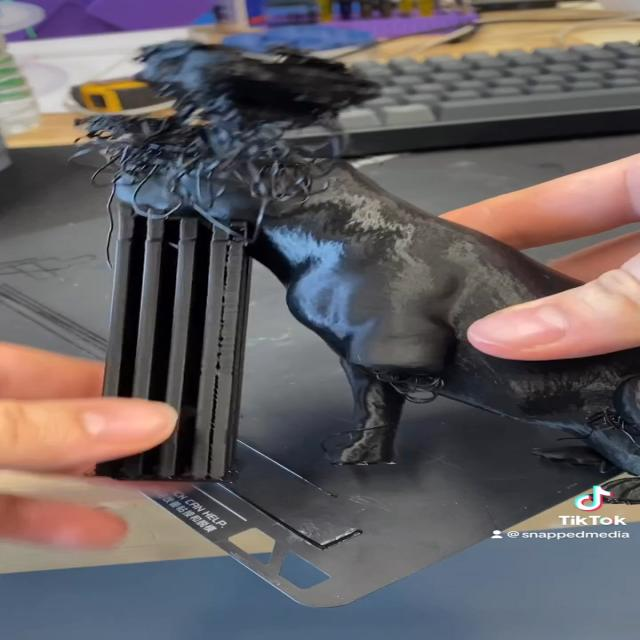spaghetti: (48, 36, 388, 206)
